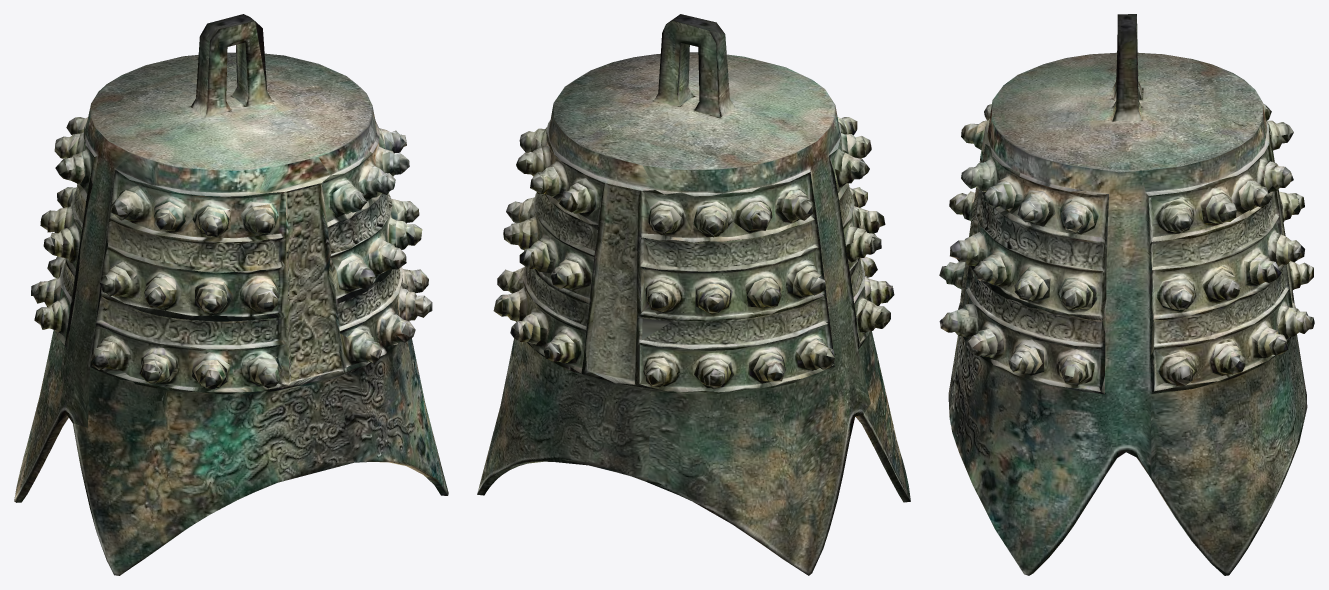
Rendered from niu.glb.
3 views of the same model, side by side, from view 1: azimuth 30°, elevation 25°; view 2: azimuth 150°, elevation 25°; view 3: azimuth 270°, elevation 25° (orthographic).
Visible parts, largest first — view 1: mesh; view 2: mesh; view 3: mesh.
Part boxes in pixels (<box>): mesh: <box>14,14,448,575</box>; mesh: <box>477,14,910,575</box>; mesh: <box>939,14,1314,575</box>.
Bounding box in the file's own units: 0.7438 × 1 × 0.7187.
Materials: 1 (1 with a texture image).
